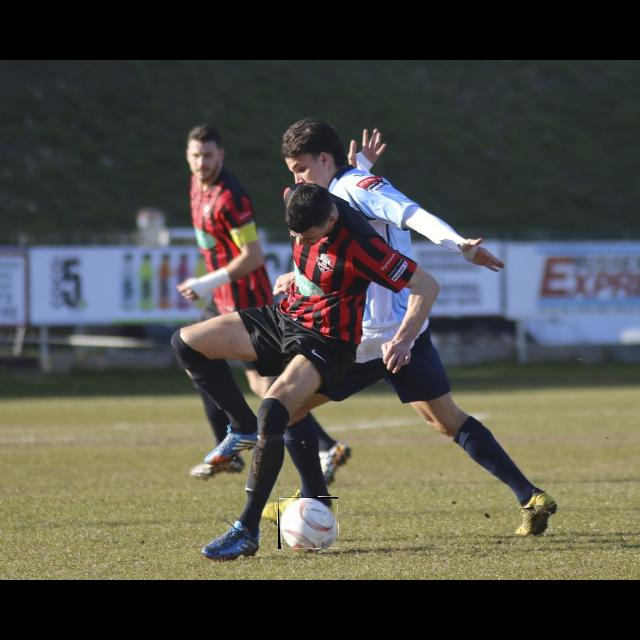Football: (278, 497, 338, 549)
